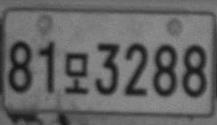1: (37, 41, 62, 92)
2: (123, 42, 148, 96)
3: (94, 42, 119, 95)
8: (7, 40, 33, 93), (152, 43, 178, 96), (181, 44, 207, 97)
모: (64, 52, 88, 94)
